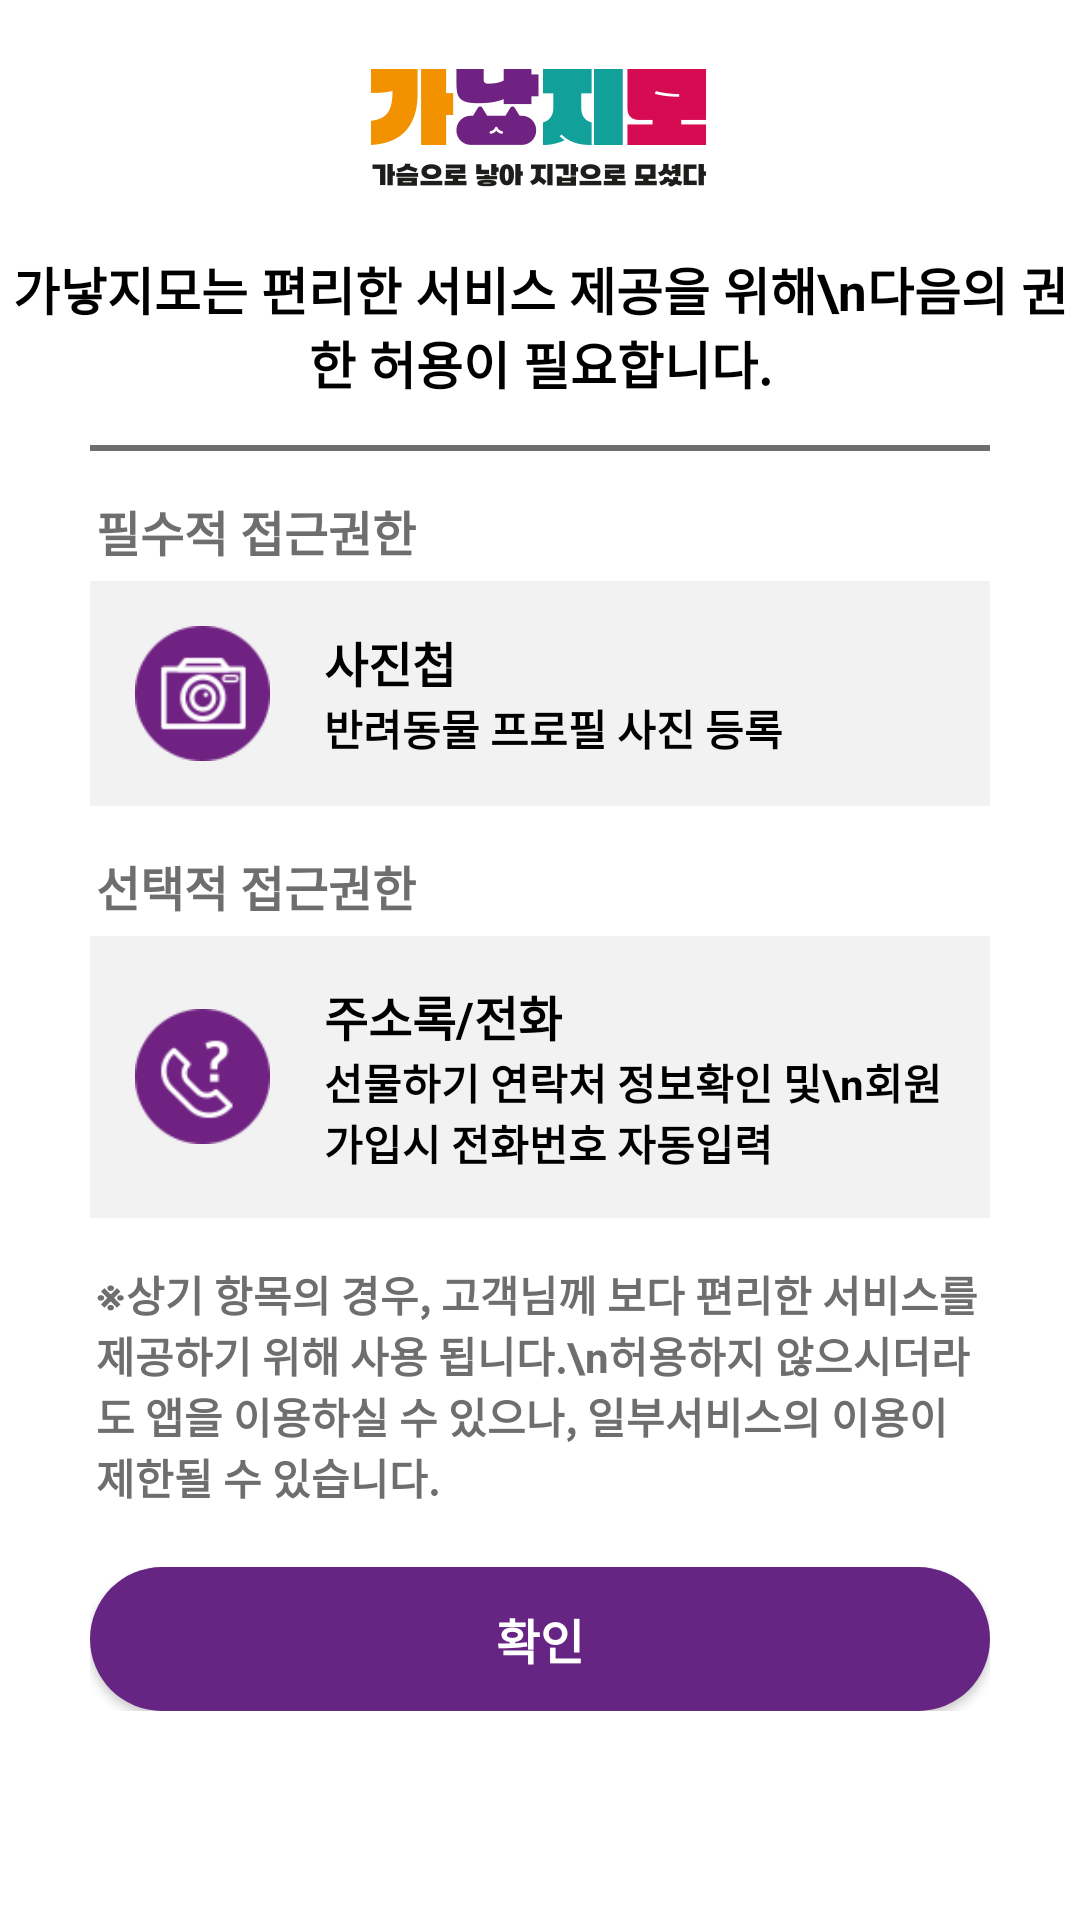

Point at icon controls on the screen. Image size 1080px×1920px, points as point (x, y).
call: point (202, 1076)
